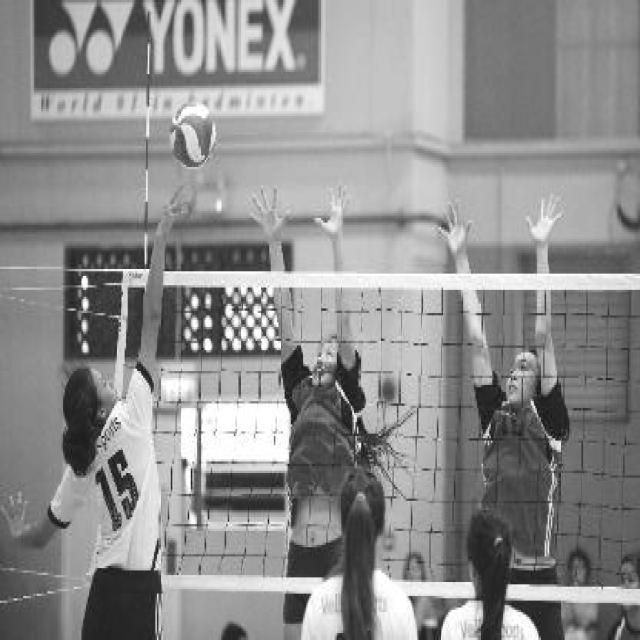volleyball: (169, 100, 217, 170)
